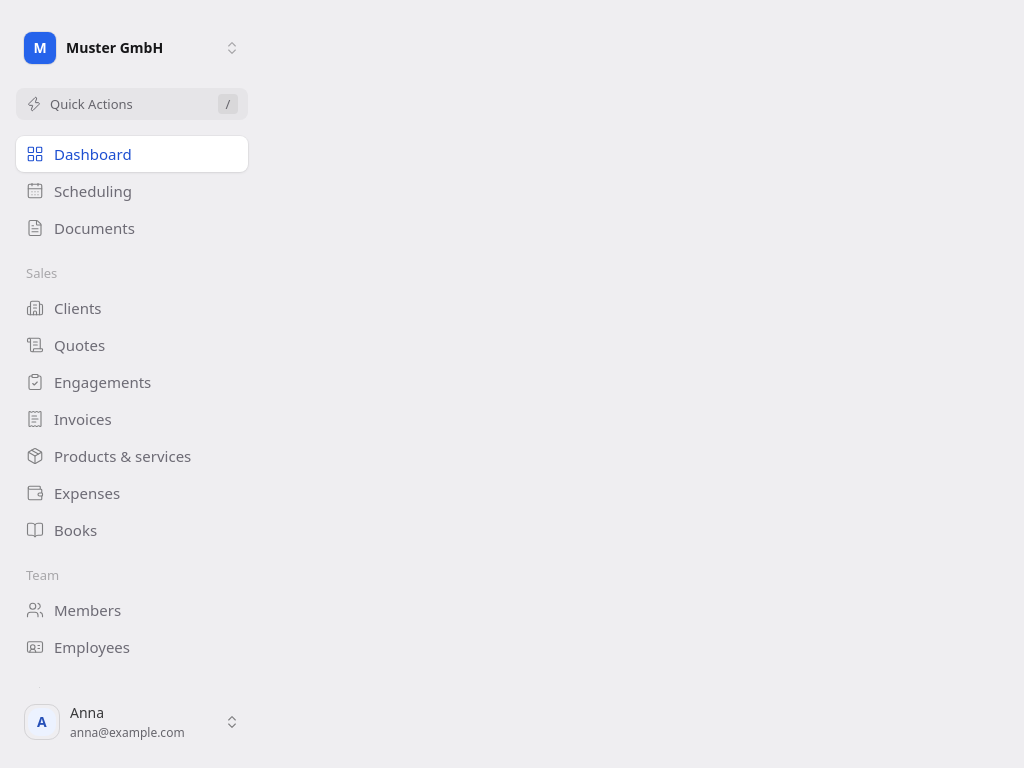
Test: the workspace menu adds a workspace and lands on its welcome
This screenshot has width=1024, height=768.
Later steps or results of the test are not shown.
What coordinates should you click on to do the following:
click the button "M Muster GmbH"
I would click on:
 (132, 48)
Its box is 16,24 -> 248,72.
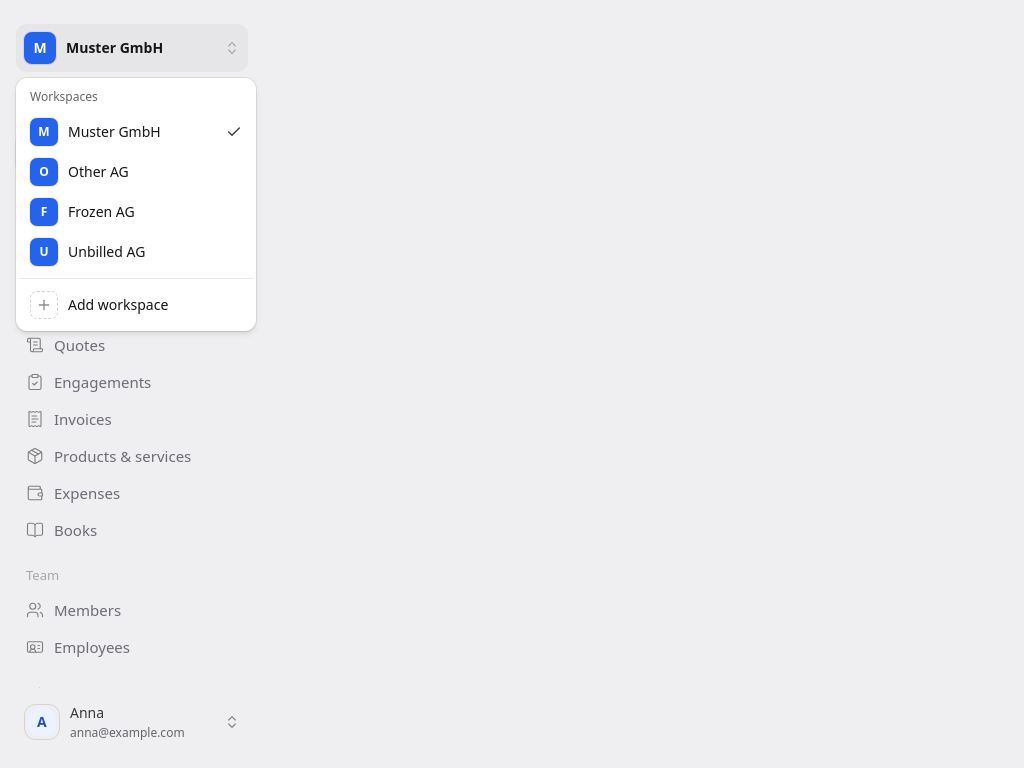
What coordinates should you click on to do the following:
click the menu item "Add workspace"
I would click on:
 (99, 305)
Its box is 30,291 -> 168,319.
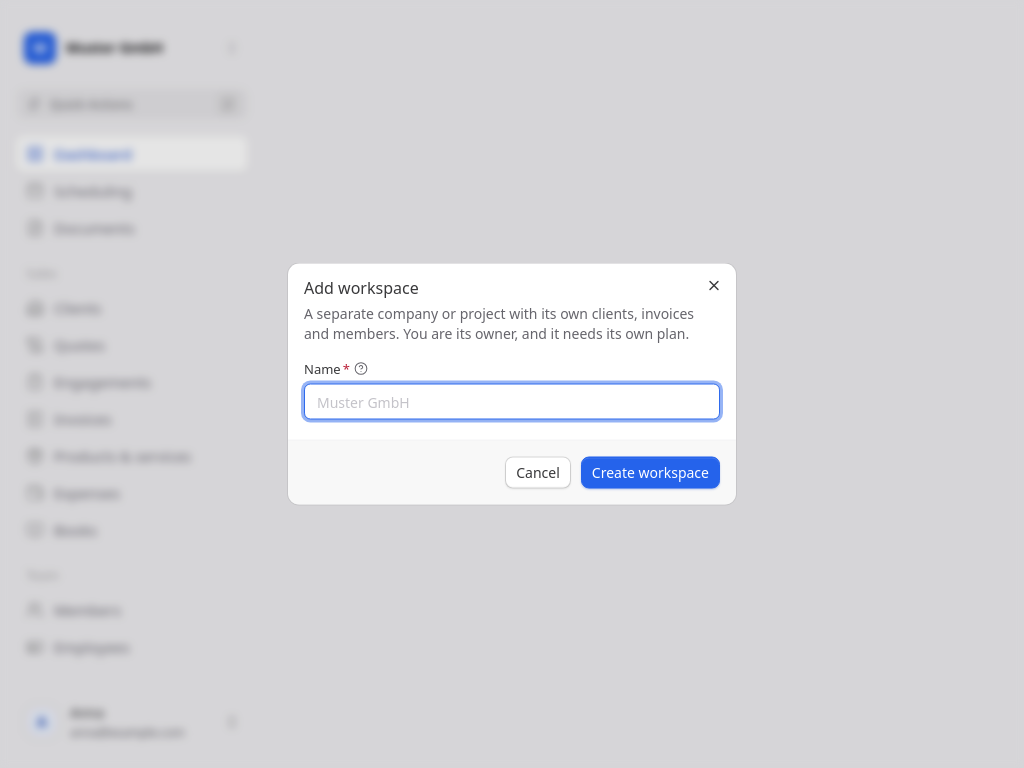
What coordinates should you click on to do the following:
click the button "Create workspace"
I would click on:
 (650, 472)
Its box is 581,456 -> 720,488.
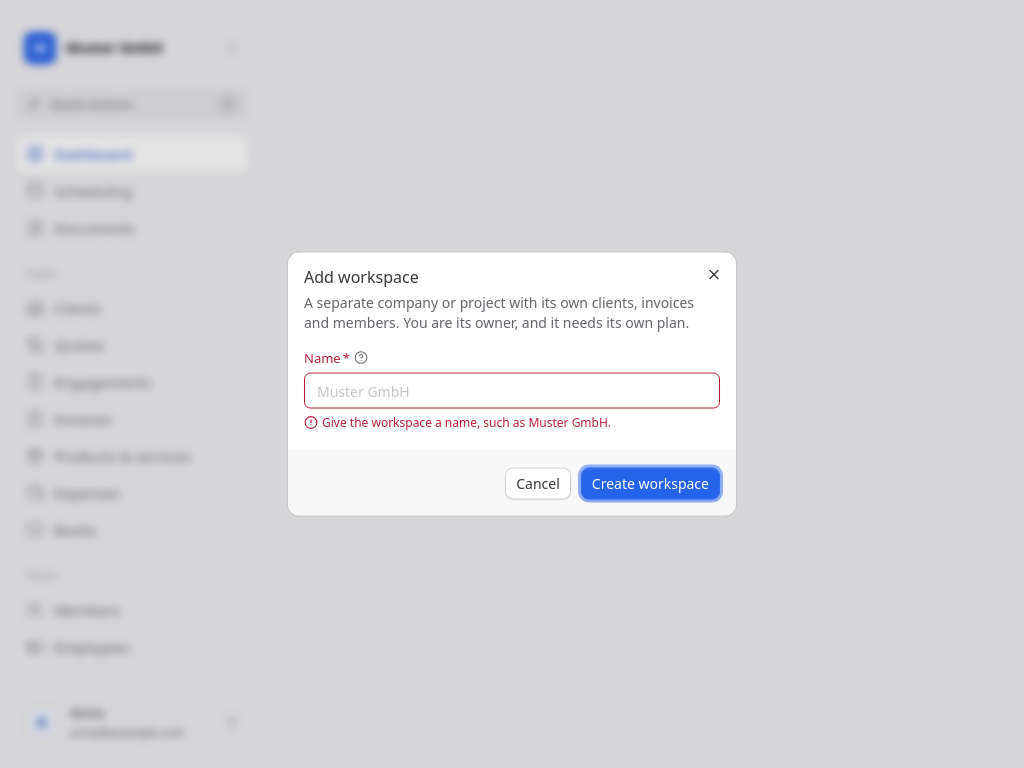
Expected: the dialog "Add workspace" shows "Give the workspace a name", 322,414 -> 611,430
